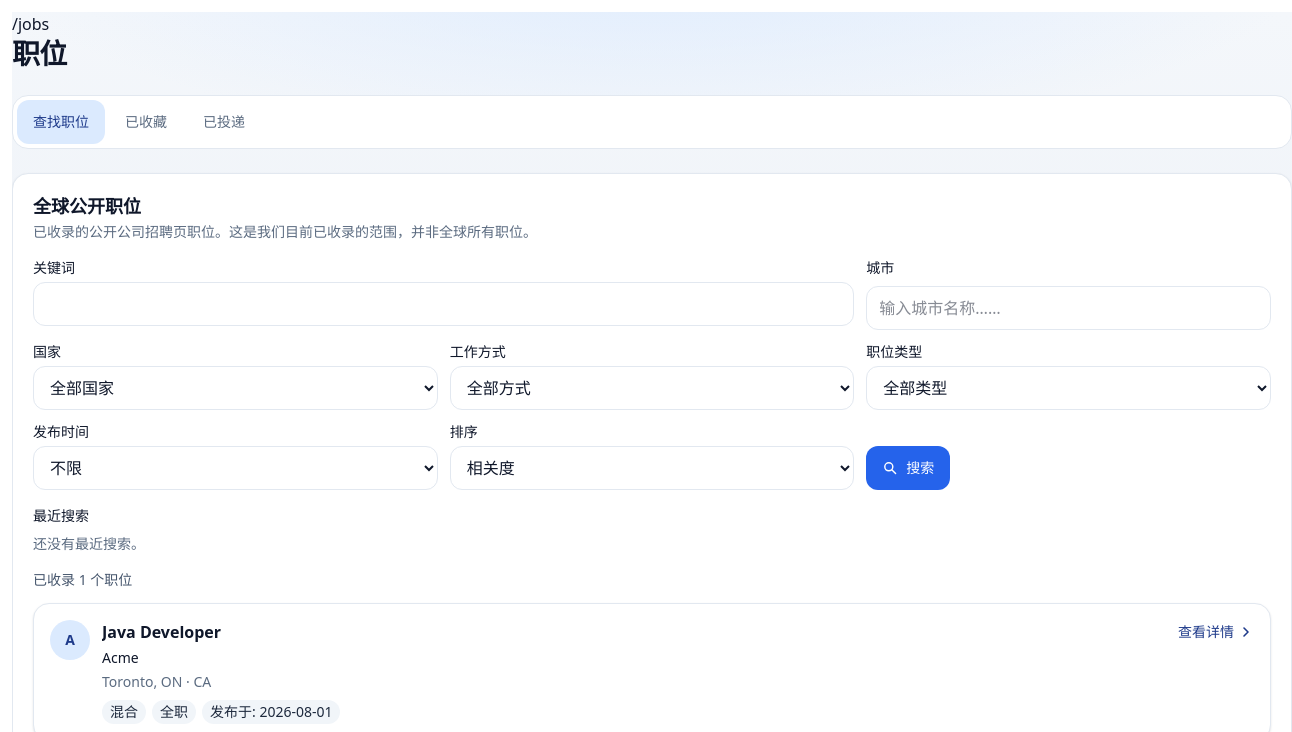
JobsPage catalog search › saves filter and page state to the URL so returning from a detail can restore them
Type "java" into the field labelled "关键词" at (444, 304), box [33, 282, 854, 326]
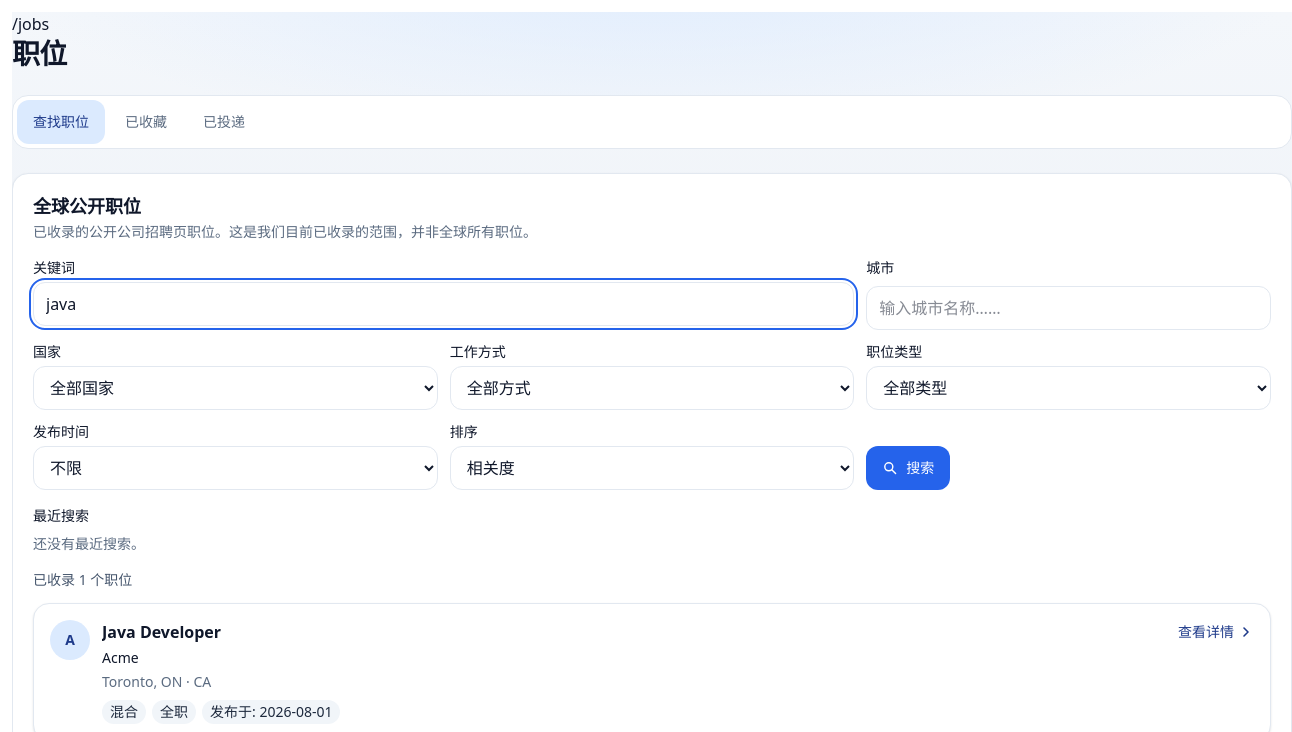
Select "加拿大（CA）" in the dropdown labelled "国家" at (235, 388), box [33, 366, 438, 410]
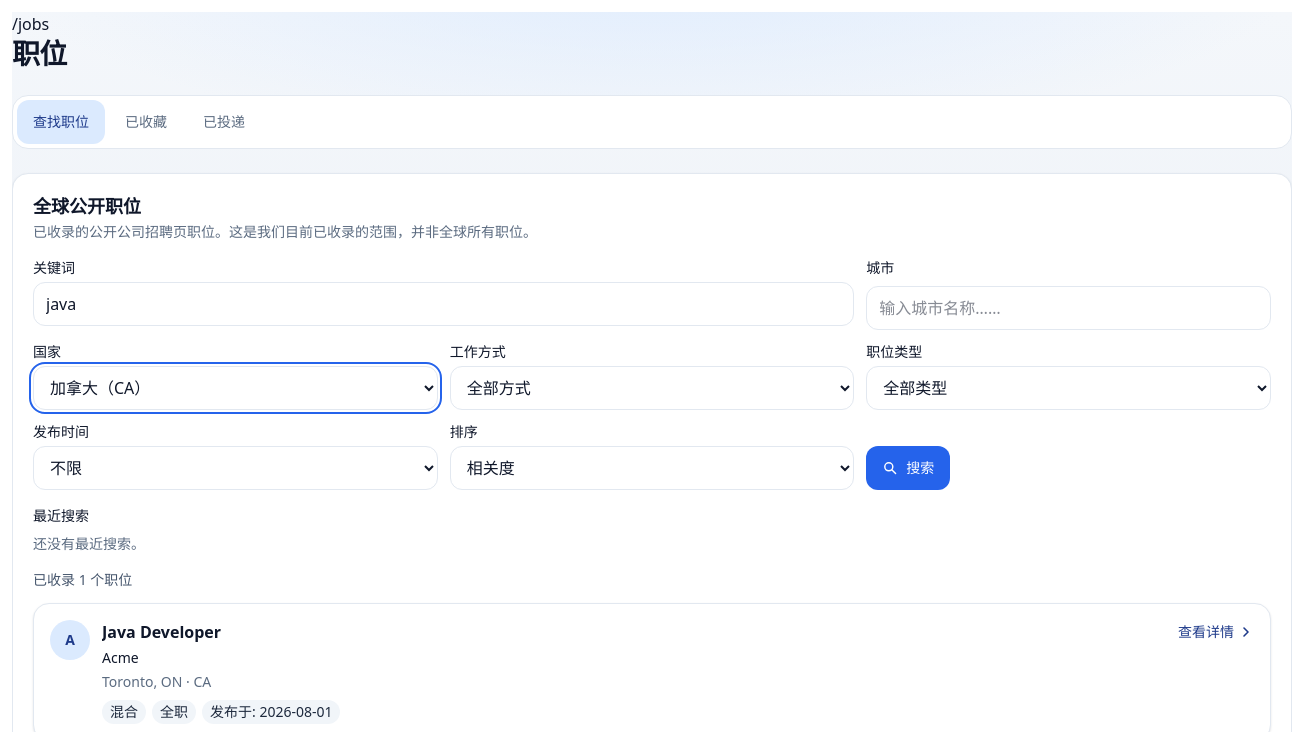
Select "远程" in the dropdown labelled "工作方式" at (652, 388), box [450, 366, 854, 410]
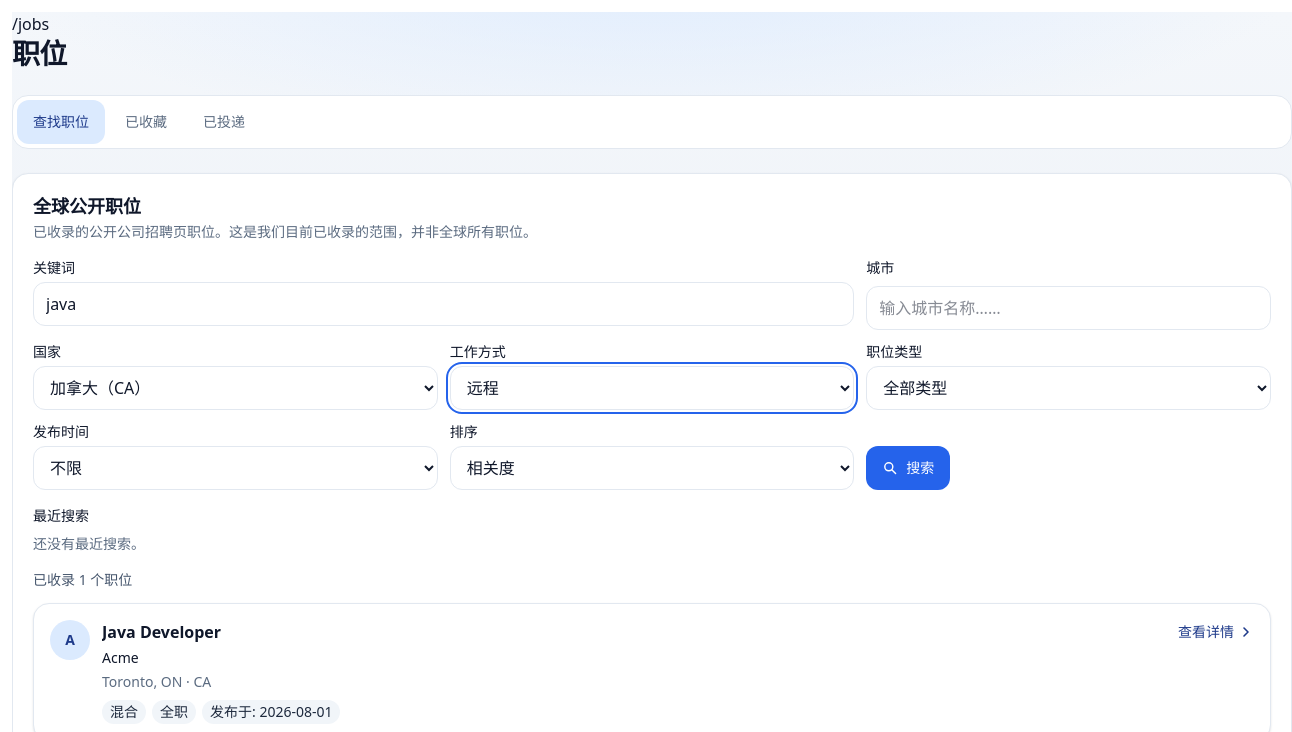
Click the button "搜索" at (908, 468), box [866, 446, 950, 490]
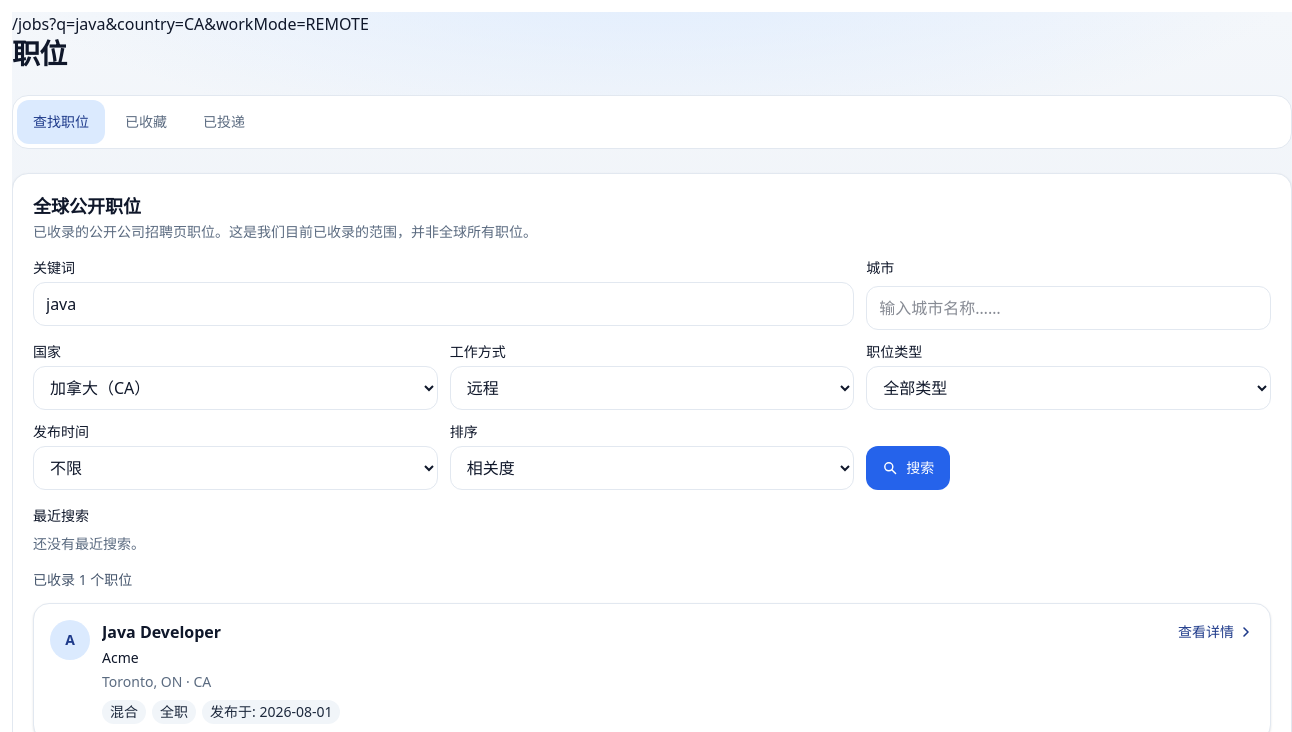
Check: the text with test id "current-location" reads "/jobs?q=java&country=CA&workMode=REMOTE", box [12, 13, 369, 35]
